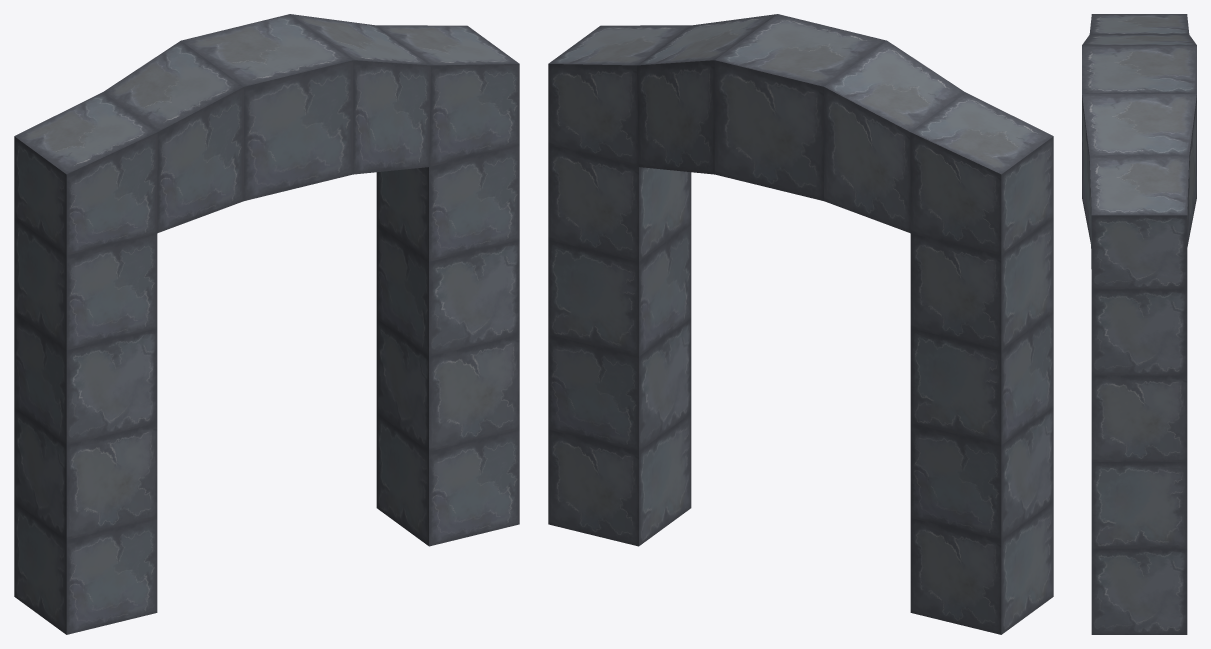
File: Castle Gate 1.fbx
3 renders of one model, left to right at view 1: azimuth 30°, elevation 25°; view 2: azimuth 150°, elevation 25°; view 3: azimuth 270°, elevation 25°, orthographic. The views are drawn at different scales.
Parts seen in each view (by area): view 1: Castle Gate 1; view 2: Castle Gate 1; view 3: Castle Gate 1.
Boxes of the visible parts, bbox=[...] form: Castle Gate 1: bbox=[14, 14, 519, 634]; Castle Gate 1: bbox=[548, 14, 1053, 634]; Castle Gate 1: bbox=[1082, 14, 1196, 634].
Size of the model in its own units: 3.75 by 4.03 by 0.9043.
